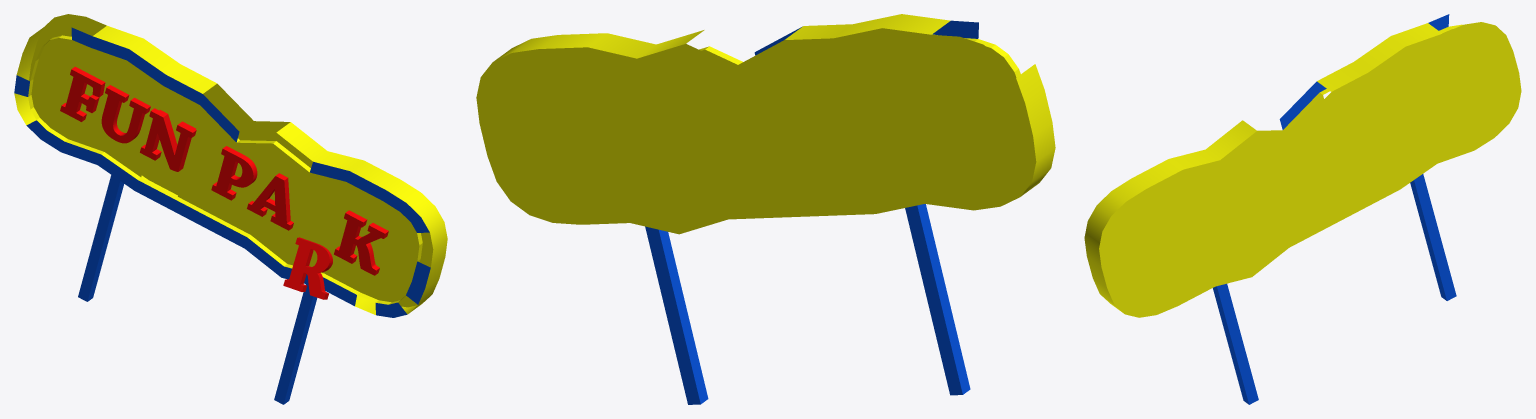
File: 13 Park_Signboard.FBX
3 views of the same model, side by side, from view 1: azimuth 30°, elevation 25°; view 2: azimuth 210°, elevation 25°; view 3: azimuth 270°, elevation 25° (orthographic). The views are drawn at different scales.
Visible parts, largest first — view 1: Park_Signboard; view 2: Park_Signboard; view 3: Park_Signboard.
Boxes of the visible parts, <box> form: Park_Signboard: <box>14,14,447,404</box>; Park_Signboard: <box>476,14,1055,404</box>; Park_Signboard: <box>1084,14,1521,404</box>.
Bounding box in the file's own units: 1171 × 1596 × 1901.
